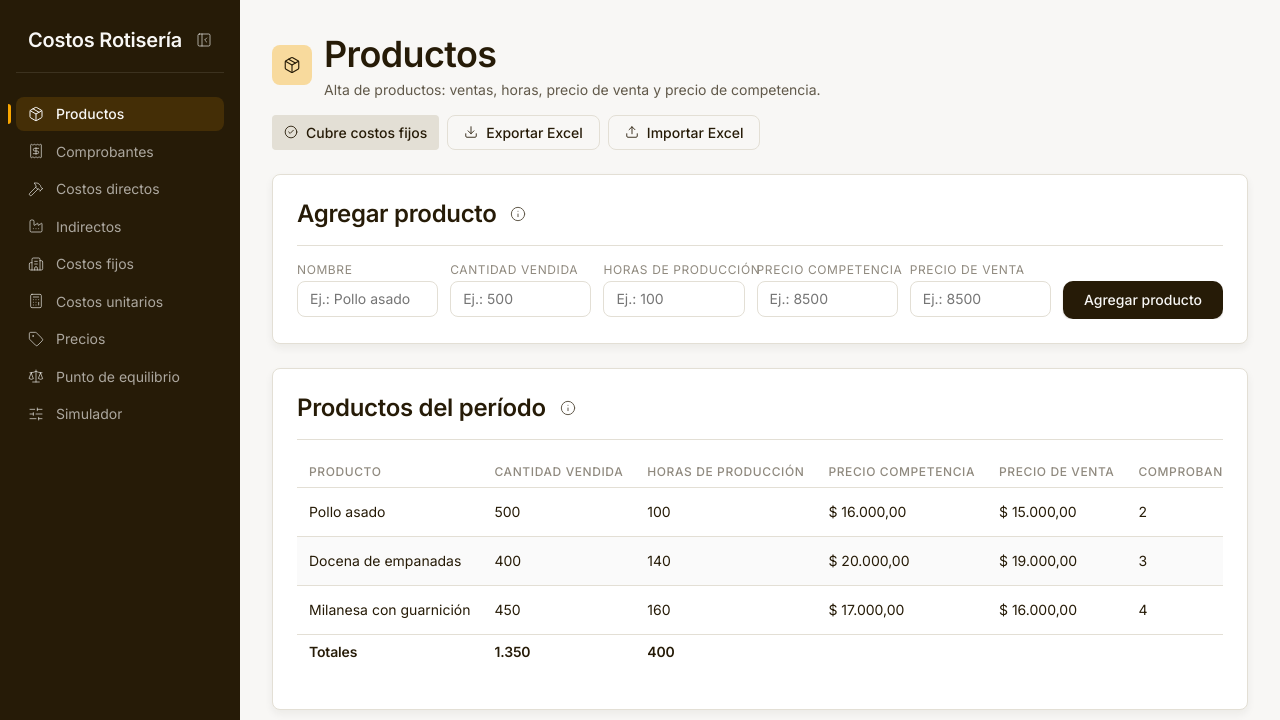
Test case: App › el simulador muestra el tablero con el punto de equilibrio del escenario
Click the button "Simulador" at (120, 414), box [16,397,224,430]
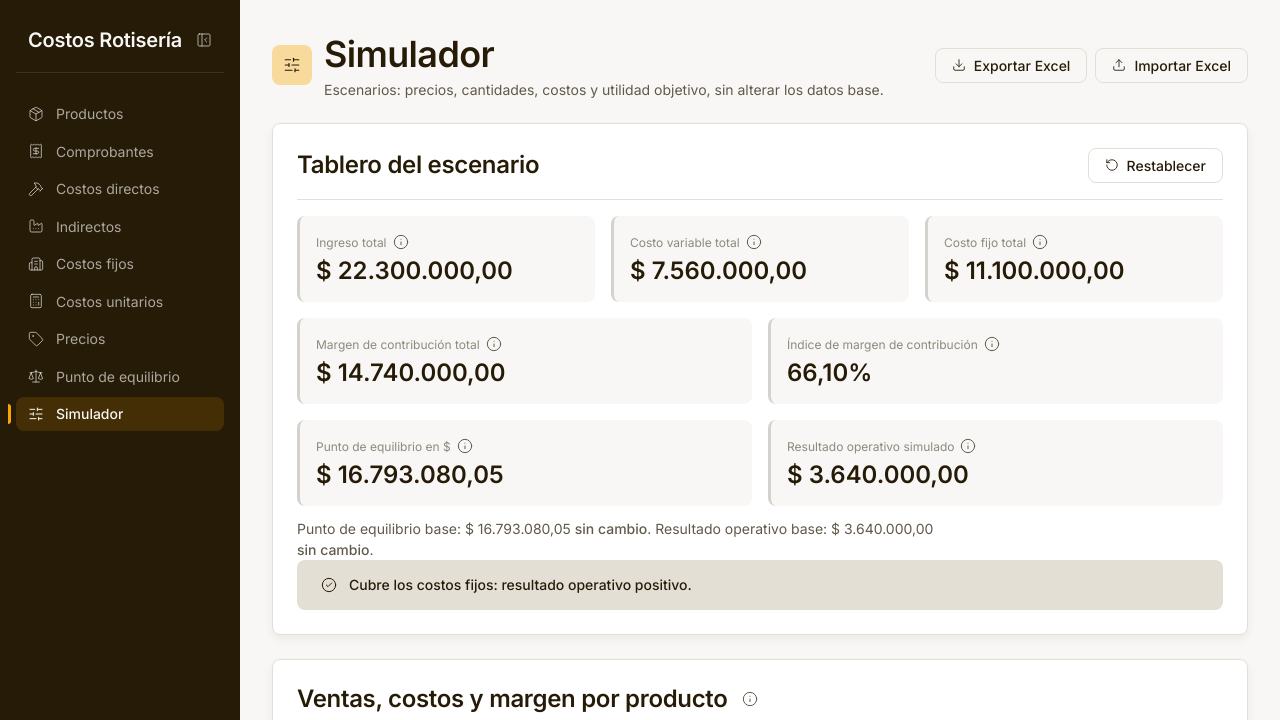
Result: the text "Ingreso total" is shown at [316,234,386,250]
Result: the text "Costo fijo total" is shown at [944,234,1026,250]
Result: the text "Punto de equilibrio en $" is shown at [316,438,451,454]
